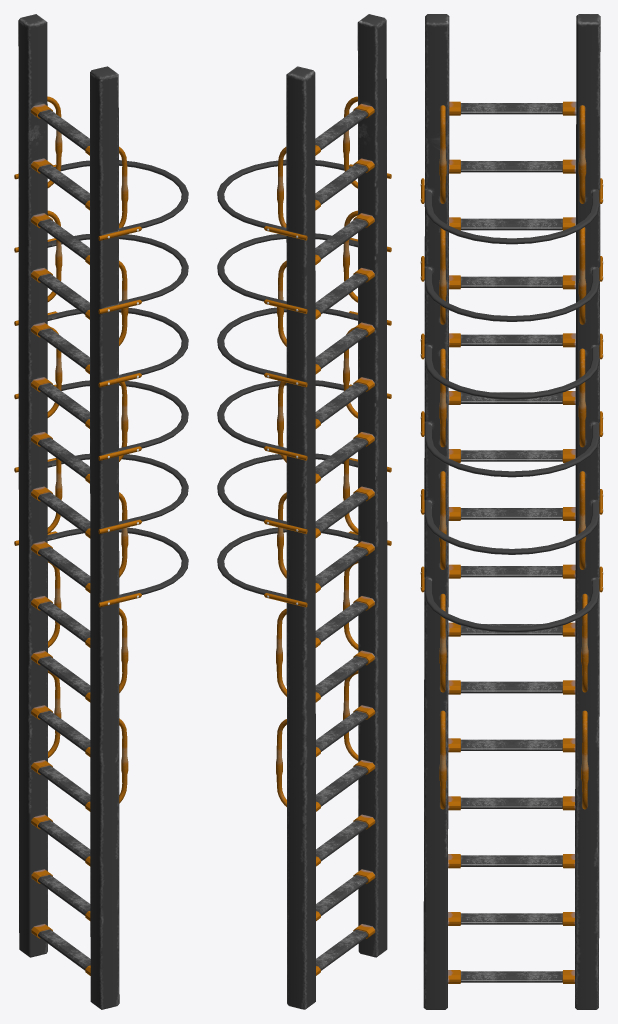
Rendered from ladder.obj.
The picture shows the model from 3 angles, left to right: view 1: azimuth 30°, elevation 25°; view 2: azimuth 150°, elevation 25°; view 3: azimuth 270°, elevation 25°; orthographic projection. The views are drawn at different scales.
Parts seen in each view (by area): view 1: Box207; view 2: Box207; view 3: Box207.
Boxes of the visible parts, box(x1,y1,x2,y2) form: Box207: box(14, 14, 188, 1009); Box207: box(217, 14, 391, 1009); Box207: box(420, 14, 603, 1009).
Size of the model in its own units: 0.6089 by 4.5 by 0.756.
Materials: 1 (1 with a texture image).
